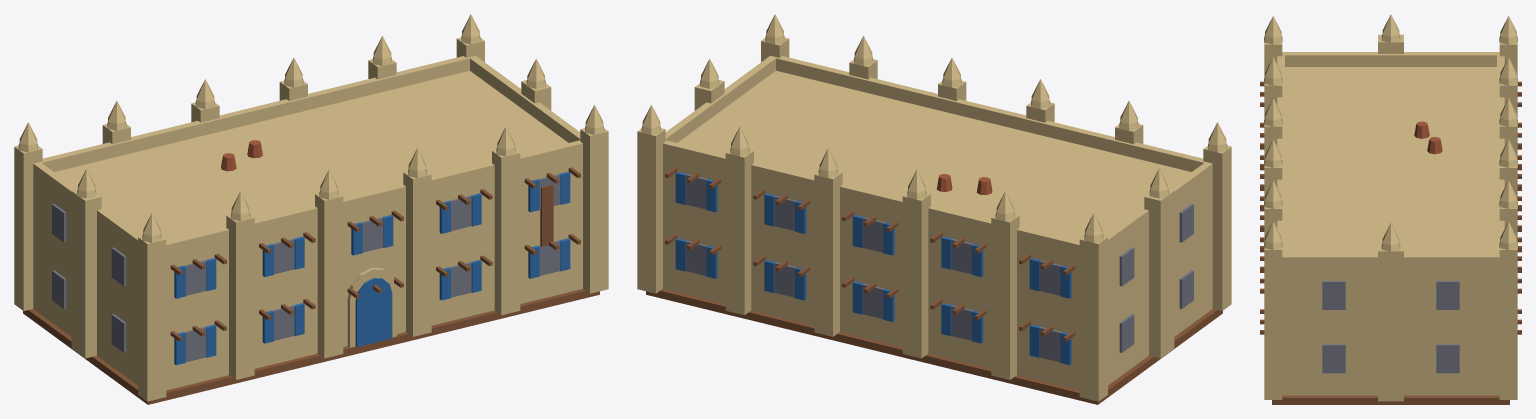
File: house-2x1-2f-third-banco-a.glb
3 views of the same model, side by side, from view 1: azimuth 30°, elevation 25°; view 2: azimuth 150°, elevation 25°; view 3: azimuth 270°, elevation 25° (orthographic). The views are drawn at different scales.
Parts seen in each view (by area): view 1: house-2x1-2f-third-banco-a; view 2: house-2x1-2f-third-banco-a; view 3: house-2x1-2f-third-banco-a.
Part boxes in pixels (x1,y1,x2,y2): house-2x1-2f-third-banco-a: (14,14,608,404); house-2x1-2f-third-banco-a: (637,14,1231,404); house-2x1-2f-third-banco-a: (1260,14,1521,404).
Size of the model in its own units: 1.99 by 0.775 by 1.01.
1 material, 1 textured.
